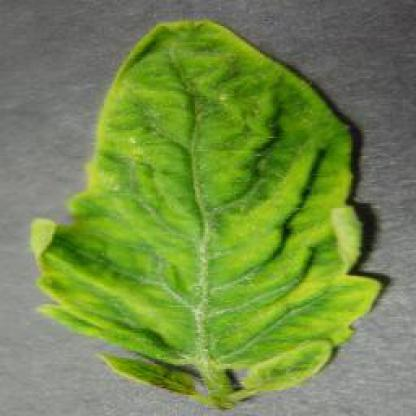bad leaf: (146, 200, 267, 324), (78, 66, 146, 202), (302, 155, 364, 286), (102, 335, 233, 388), (275, 271, 376, 322), (244, 336, 326, 392), (46, 223, 84, 328)
